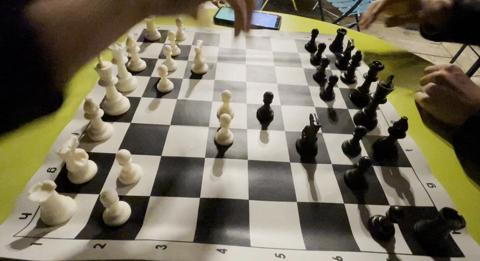xcorner: (212, 41, 223, 52), (185, 39, 196, 50), (239, 95, 250, 106), (239, 120, 250, 131), (366, 158, 377, 169), (158, 38, 169, 48), (325, 63, 335, 74), (210, 56, 221, 66), (239, 75, 250, 85), (315, 125, 326, 135), (124, 113, 134, 124), (324, 156, 335, 166), (153, 146, 164, 156), (142, 185, 152, 196), (319, 49, 329, 59), (292, 47, 302, 57), (266, 45, 276, 55), (239, 43, 249, 53), (297, 62, 307, 72), (268, 60, 278, 70), (239, 58, 249, 68), (181, 54, 191, 64), (152, 52, 162, 62), (333, 81, 343, 91), (302, 79, 312, 89), (271, 77, 281, 87), (208, 73, 218, 83), (176, 71, 186, 81), (144, 69, 154, 79), (342, 102, 352, 112), (308, 100, 318, 110), (274, 98, 284, 108), (205, 93, 215, 103), (170, 91, 180, 101), (135, 89, 145, 99), (353, 127, 363, 137), (278, 123, 288, 133), (201, 118, 211, 128), (163, 116, 173, 126), (282, 154, 292, 164), (240, 151, 250, 161), (197, 149, 207, 159), (110, 144, 120, 154), (384, 198, 394, 208), (336, 196, 346, 206), (288, 193, 298, 203), (240, 191, 250, 201), (191, 188, 201, 198), (92, 183, 102, 193)
